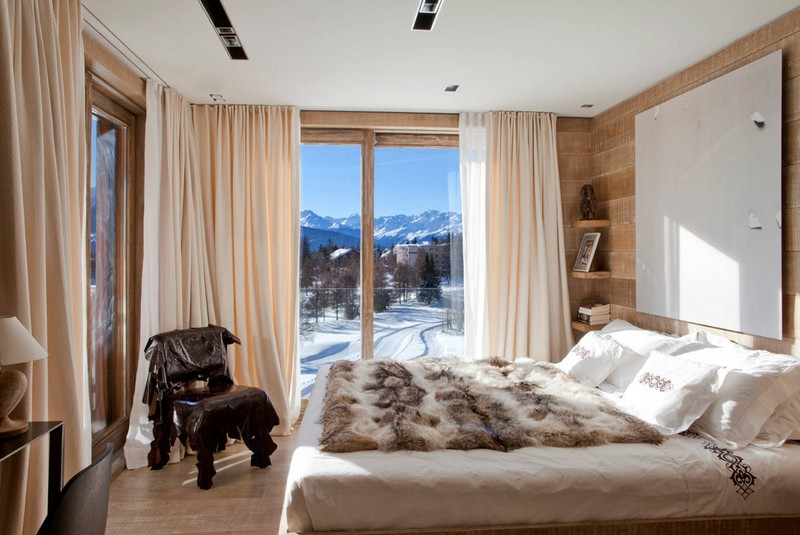bed: (295, 328, 796, 524)
chair: (147, 323, 280, 488)
lamp: (2, 314, 49, 438)
